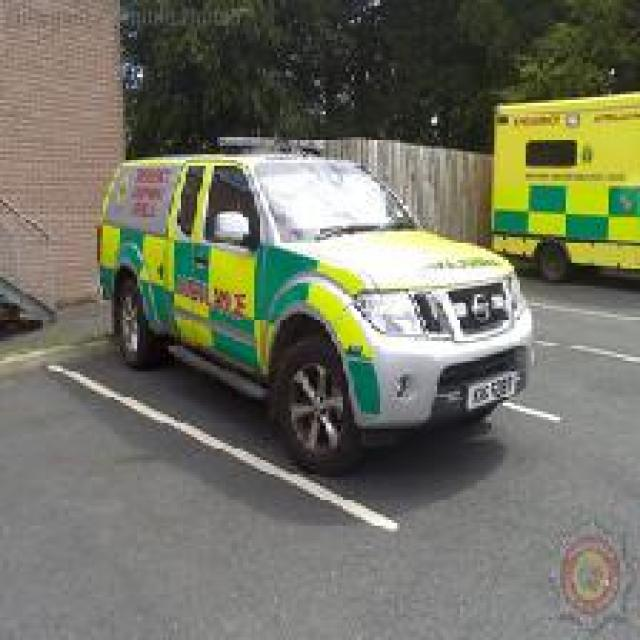Ambulance: (94, 134, 534, 474), (489, 80, 637, 289)
